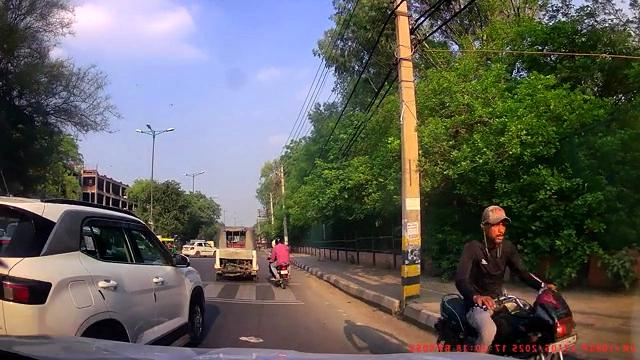motorcycle_with_helmet: (269, 236, 292, 290)
motorcycle_without_helmet: (433, 204, 580, 358)
